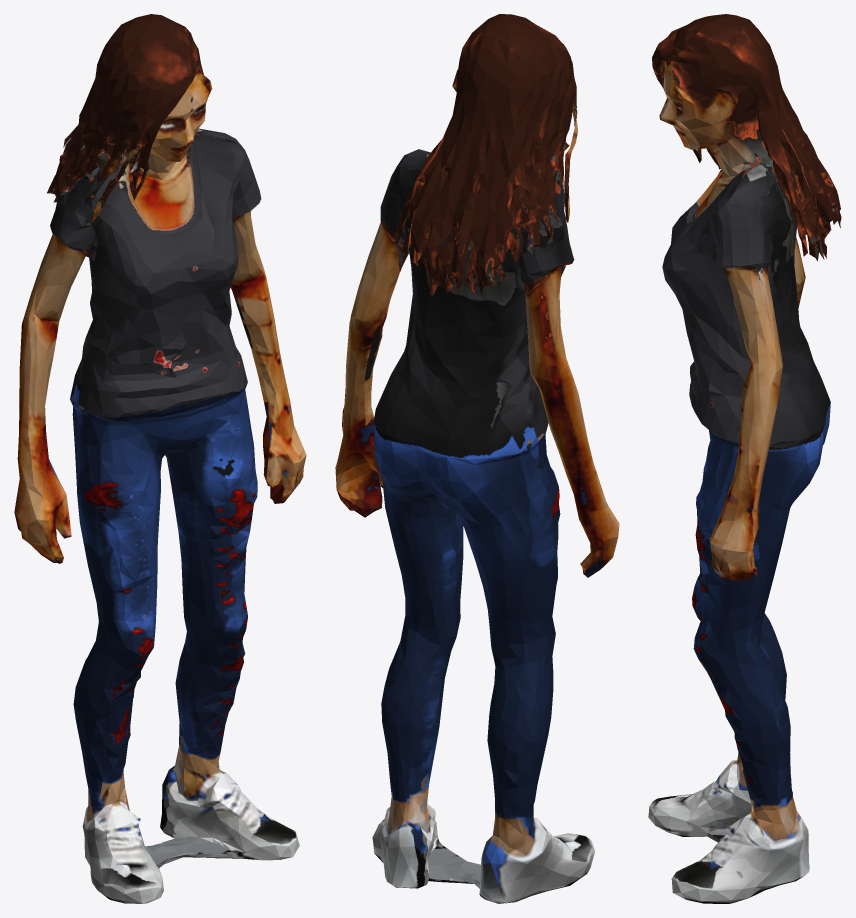
Rendered from girl_blue.glb.
3 views of the same model, side by side, from view 1: azimuth 30°, elevation 25°; view 2: azimuth 150°, elevation 25°; view 3: azimuth 270°, elevation 25° (orthographic). The views are drawn at different scales.
Visible parts, largest first — view 1: temp_mesh.ply; view 2: temp_mesh.ply; view 3: temp_mesh.ply.
Part boxes in pixels (<box>): temp_mesh.ply: <box>14,14,306,903</box>; temp_mesh.ply: <box>335,14,619,903</box>; temp_mesh.ply: <box>648,14,841,903</box>.
Size of the model in its own units: 0.6748 by 1.98 by 0.4177.
Materials: 1 (1 with a texture image).
